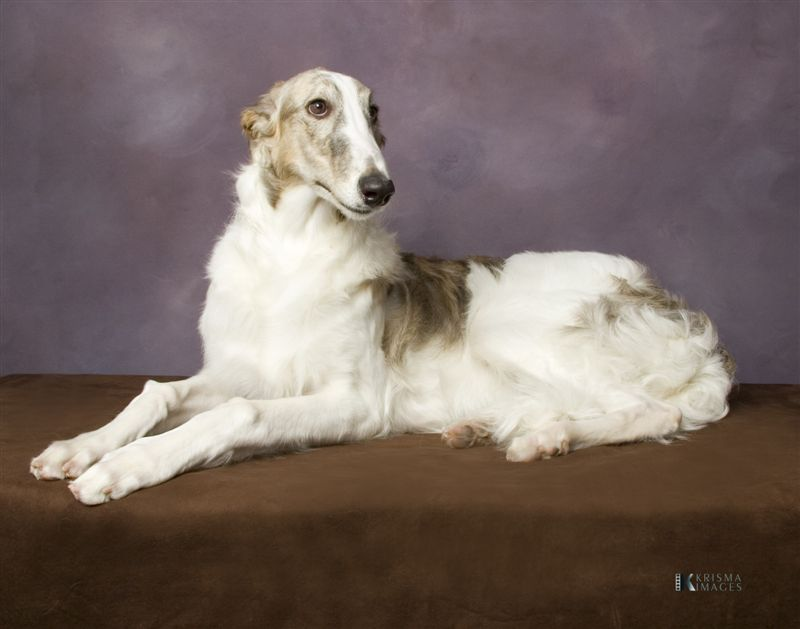borzoi: (28, 63, 735, 518)
